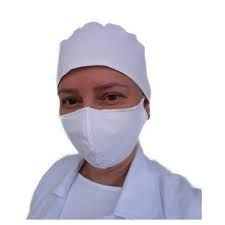with_mask_and_cap: (55, 23, 151, 170)
